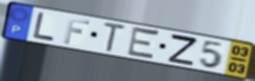5: (198, 40, 227, 70)
E: (125, 25, 162, 62)
F: (62, 16, 92, 46)
L: (31, 11, 57, 42)
T: (102, 21, 128, 53)
Z: (167, 32, 199, 67)
